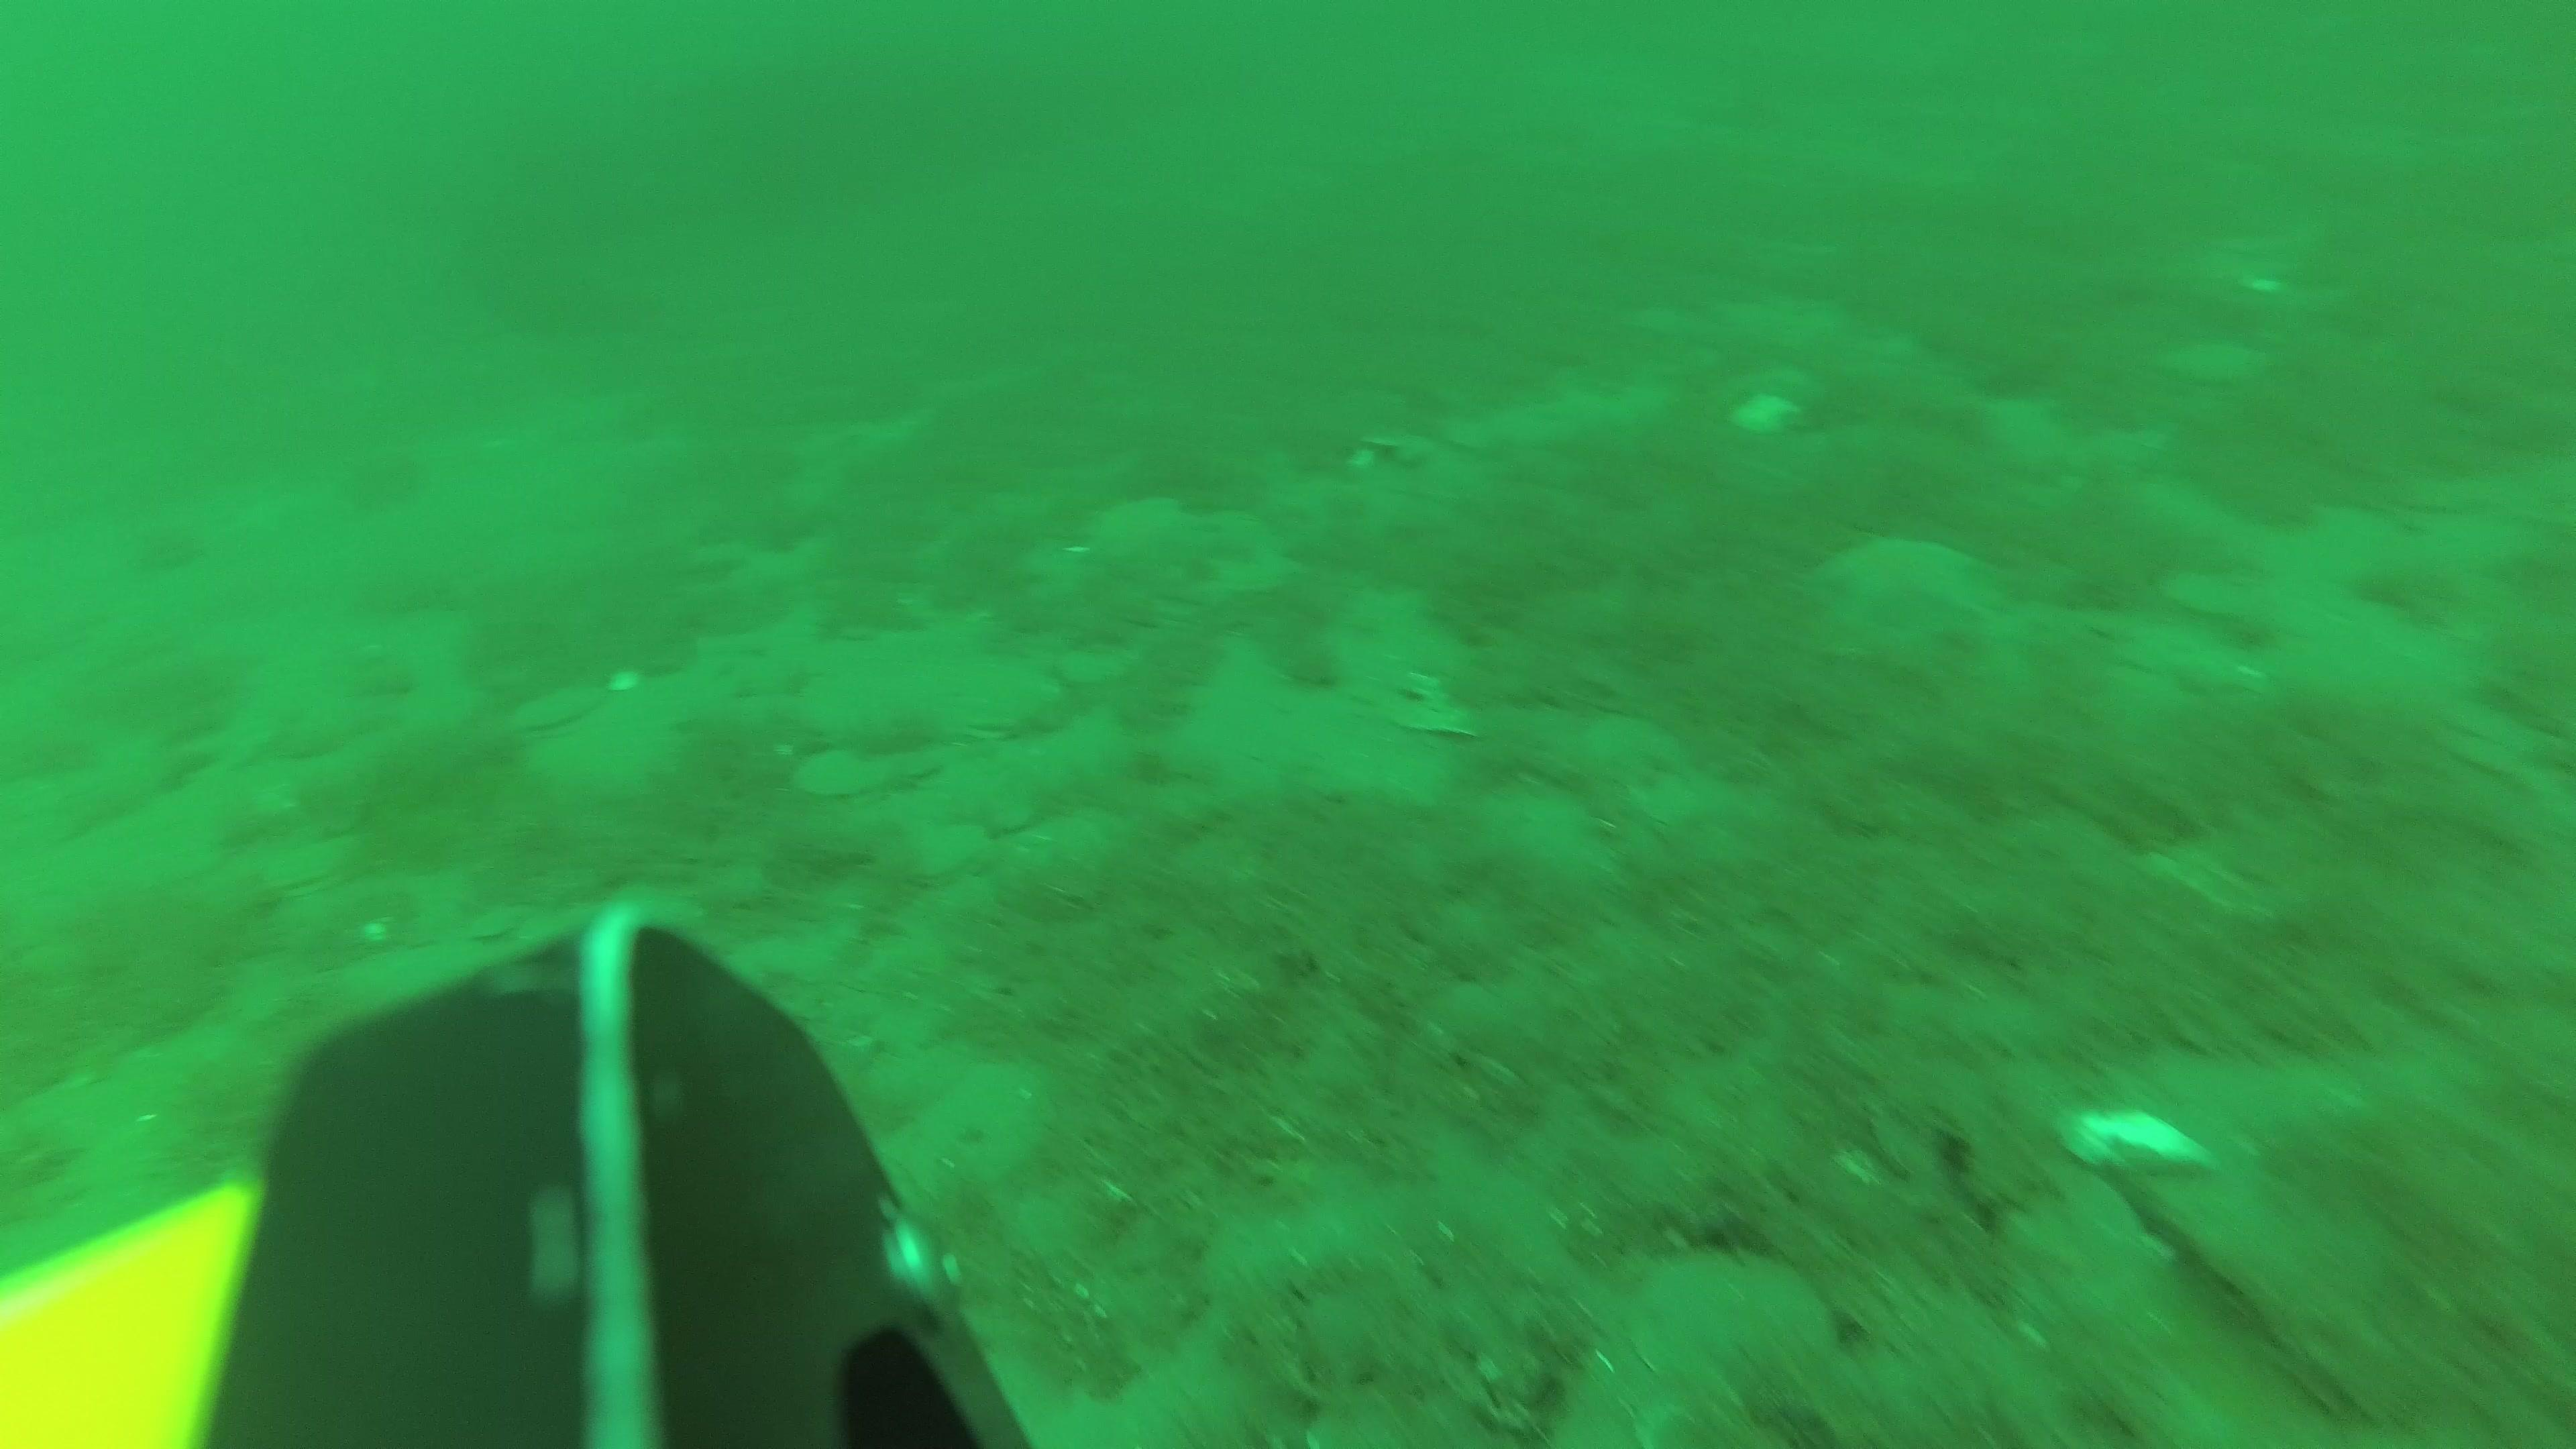scallop: (1640, 1244, 1829, 1401), (938, 658, 1058, 743), (800, 740, 916, 809), (913, 817, 996, 888), (510, 681, 602, 740), (264, 847, 345, 902)
starfish: (1819, 536, 2005, 644), (1076, 495, 1201, 579)
